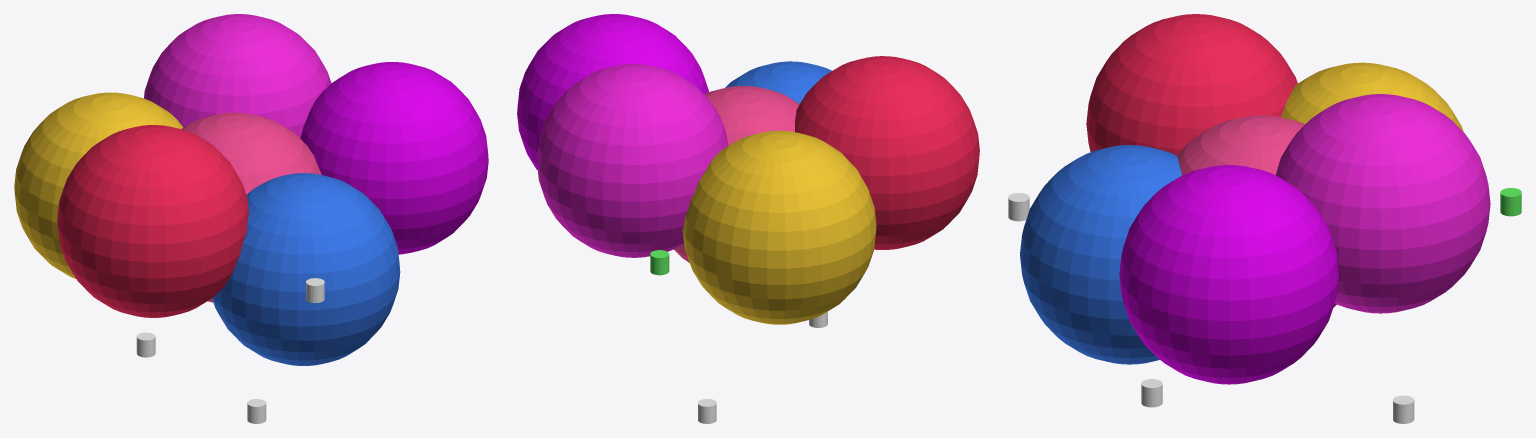
Rendered from flower.fbx.
The picture shows the model from 3 angles, left to right: view 1: azimuth 30°, elevation 25°; view 2: azimuth 150°, elevation 25°; view 3: azimuth 270°, elevation 25°; orthographic projection. The views are drawn at different scales.
Visible parts, largest first — view 1: Sphere.002, Sphere.005, Sphere, Sphere.001, Sphere.004, Sphere.003, Cylinder.009, Cylinder.007, Cylinder.005; view 2: Sphere.004, Sphere.001, Sphere.002, Sphere, Sphere.003, Sphere.005, Cylinder.003, Cylinder.009; view 3: Sphere, Sphere.001, Sphere.005, Sphere.002, Sphere.004, Sphere.003, Cylinder.007, Cylinder.003, Cylinder.009, Cylinder.005.
Boxes of the visible parts, <box> form: Sphere.002: <box>57,125,248,317</box>; Sphere.005: <box>212,173,400,365</box>; Sphere: <box>300,62,488,254</box>; Sphere.001: <box>144,14,331,137</box>; Sphere.004: <box>14,92,183,278</box>; Sphere.003: <box>182,112,321,302</box>; Cylinder.009: <box>136,332,155,357</box>; Cylinder.007: <box>247,399,266,423</box>; Cylinder.005: <box>306,278,324,302</box>; Sphere.004: <box>682,130,876,324</box>; Sphere.001: <box>537,64,728,257</box>; Sphere.002: <box>795,56,979,249</box>; Sphere: <box>517,14,708,169</box>; Sphere.003: <box>674,86,799,262</box>; Sphere.005: <box>725,61,831,103</box>; Cylinder.003: <box>650,250,669,275</box>; Cylinder.009: <box>698,399,716,423</box>; Sphere: <box>1119,165,1338,384</box>; Sphere.001: <box>1275,94,1490,313</box>; Sphere.005: <box>1020,145,1181,364</box>; Sphere.002: <box>1086,14,1297,155</box>; Sphere.004: <box>1281,62,1463,131</box>; Sphere.003: <box>1177,115,1336,307</box>; Cylinder.007: <box>1141,379,1162,407</box>; Cylinder.003: <box>1500,188,1521,216</box>; Cylinder.009: <box>1393,395,1414,423</box>; Cylinder.005: <box>1008,193,1029,221</box>.
Size of what is drawn, in the model's own units: 1031 by 745 by 959.
